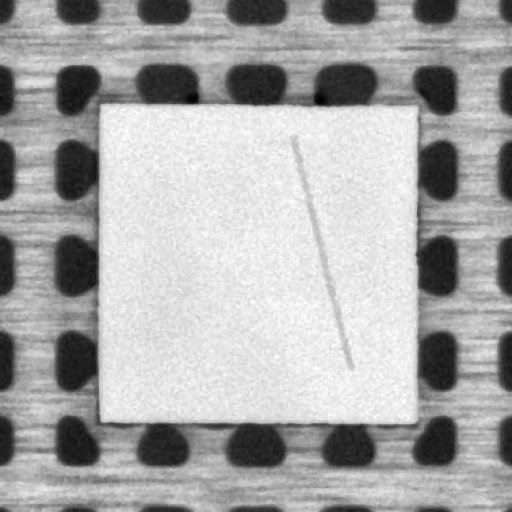DIE_CRACK: (292, 138, 348, 369)
